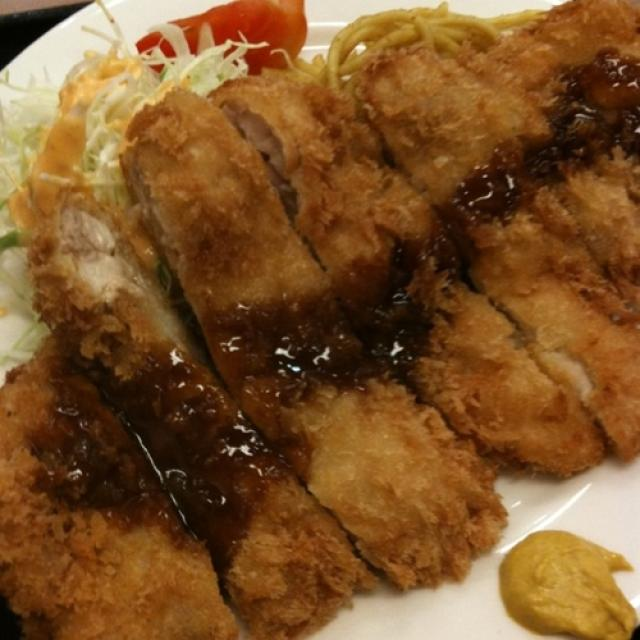鸡肉料理 含炸鸡: (23, 11, 621, 596)
